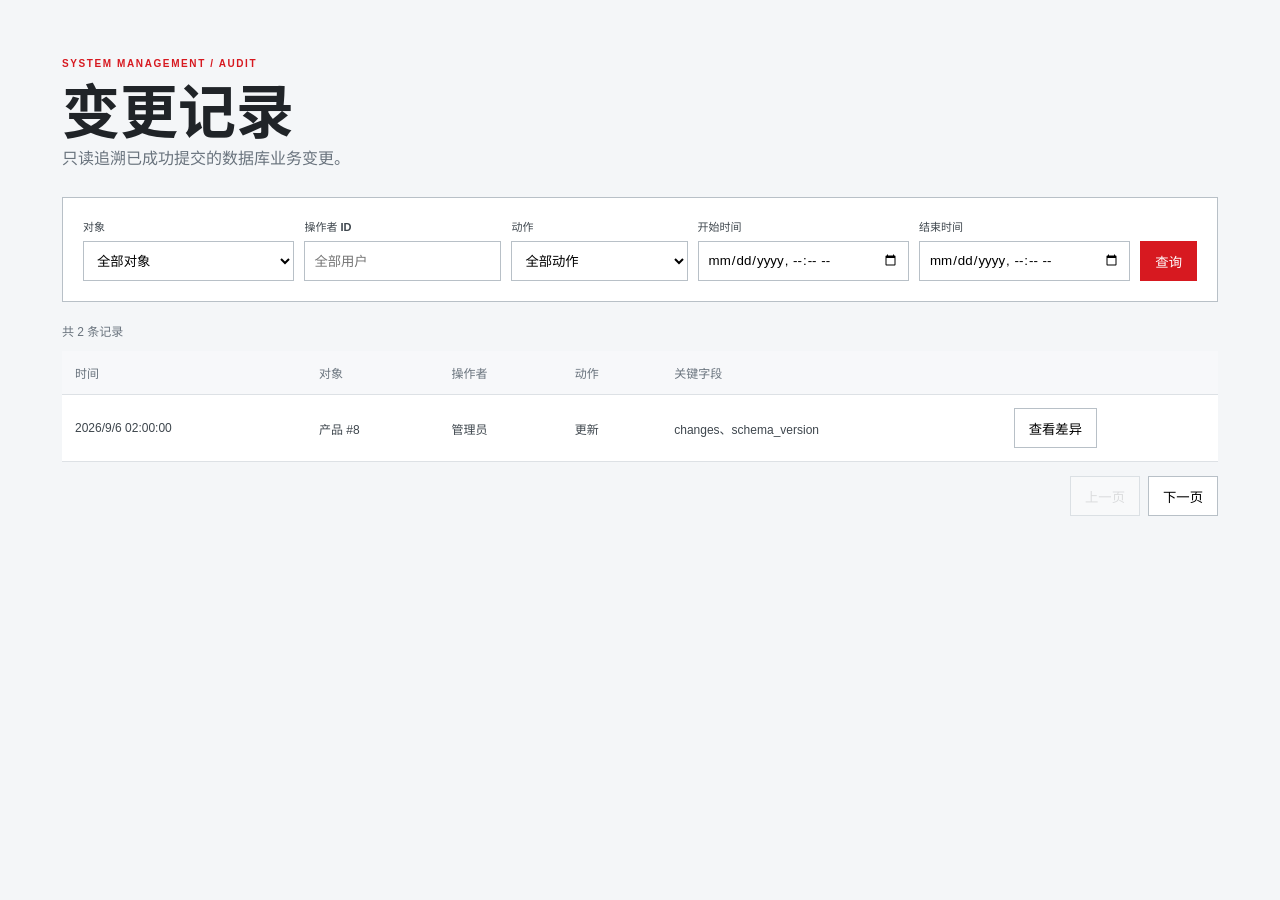
Test: AuditLogPage › filters, pages and safely displays a structured detail
This screenshot has width=1280, height=900.
Click the button with aria-label "查看变更记录 3".
click(1055, 428)  # box [1014, 408, 1097, 448]
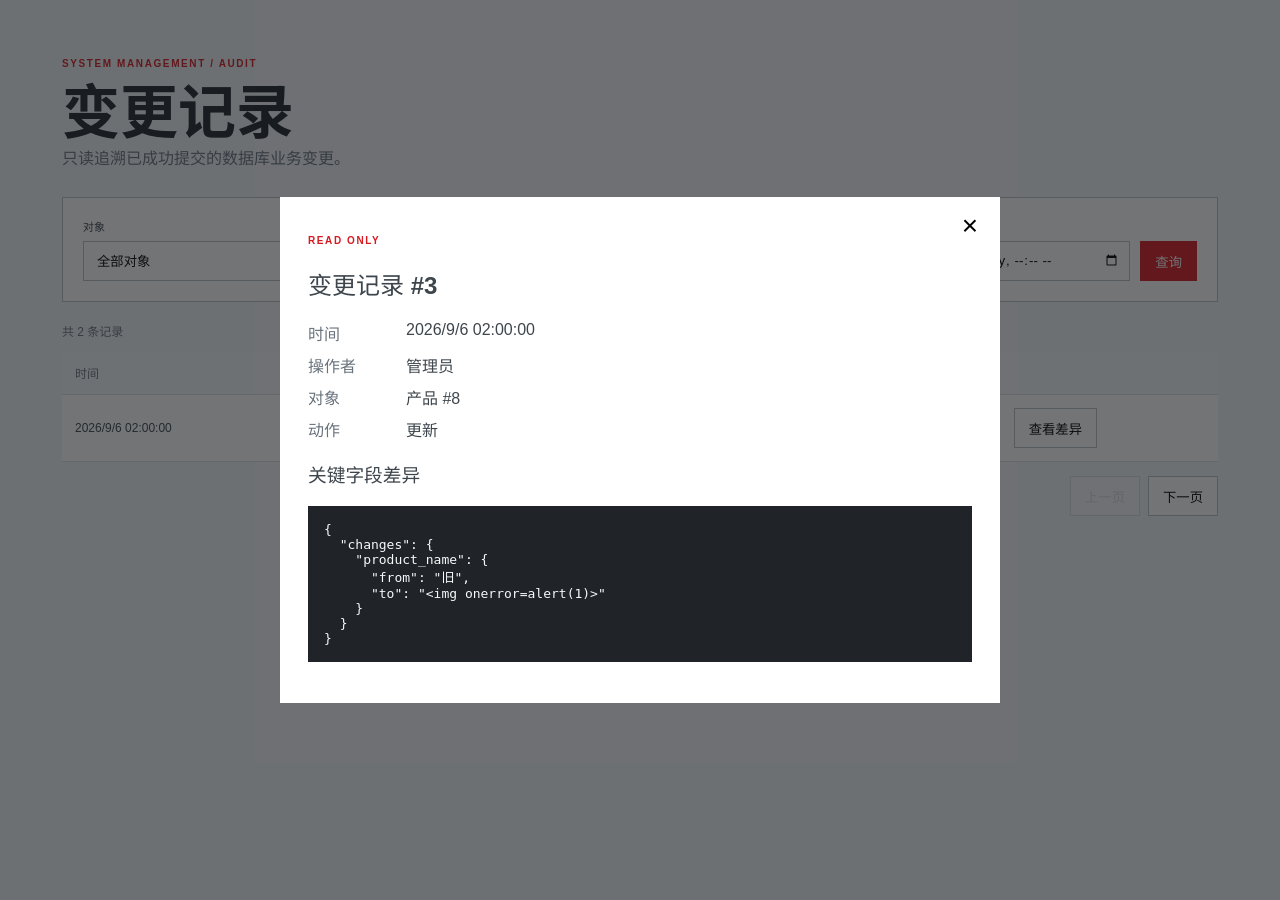
Click the button named "关闭差异".
click(970, 226)  # box [956, 209, 984, 243]
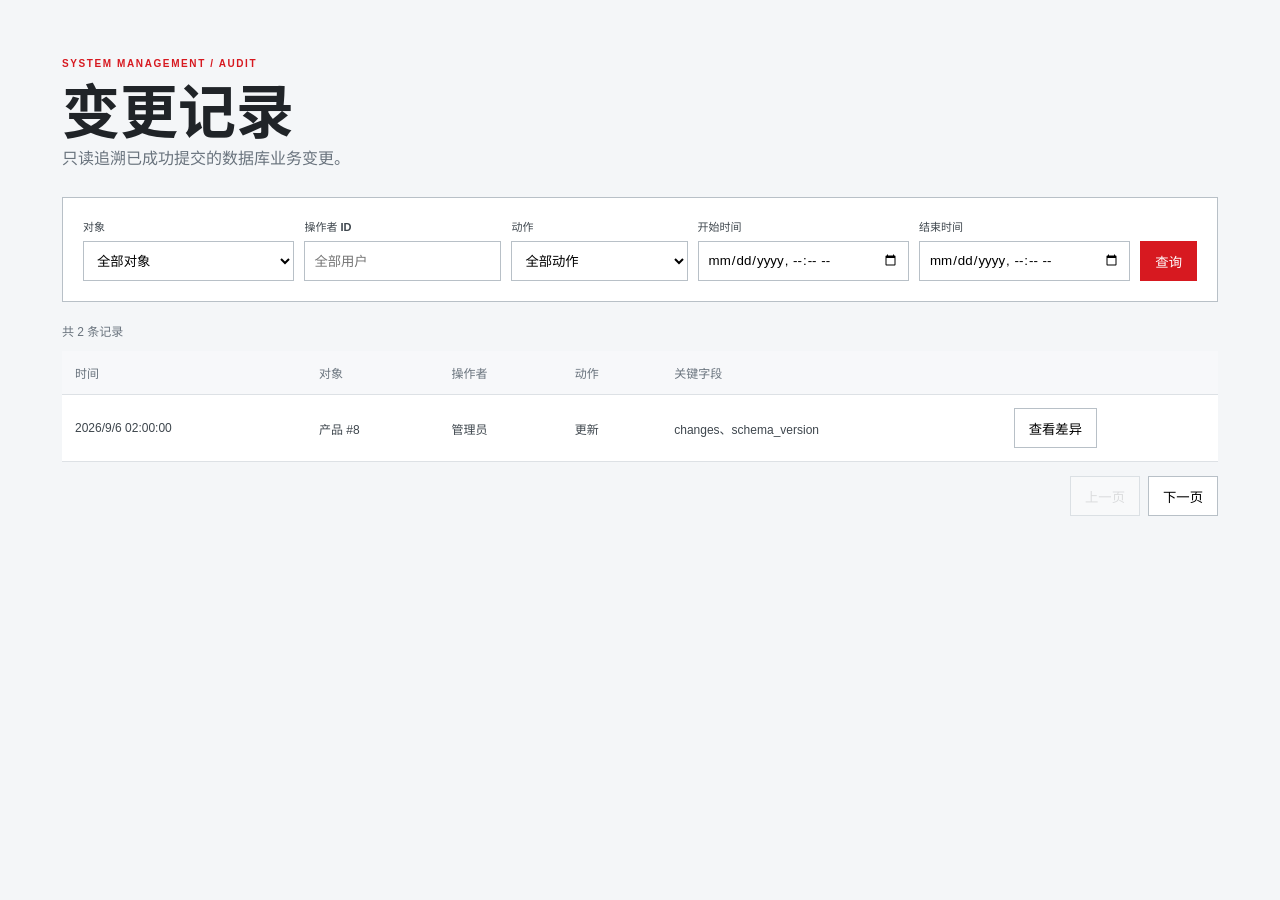
Click the button "下一页".
click(1183, 496)  # box [1148, 476, 1218, 516]
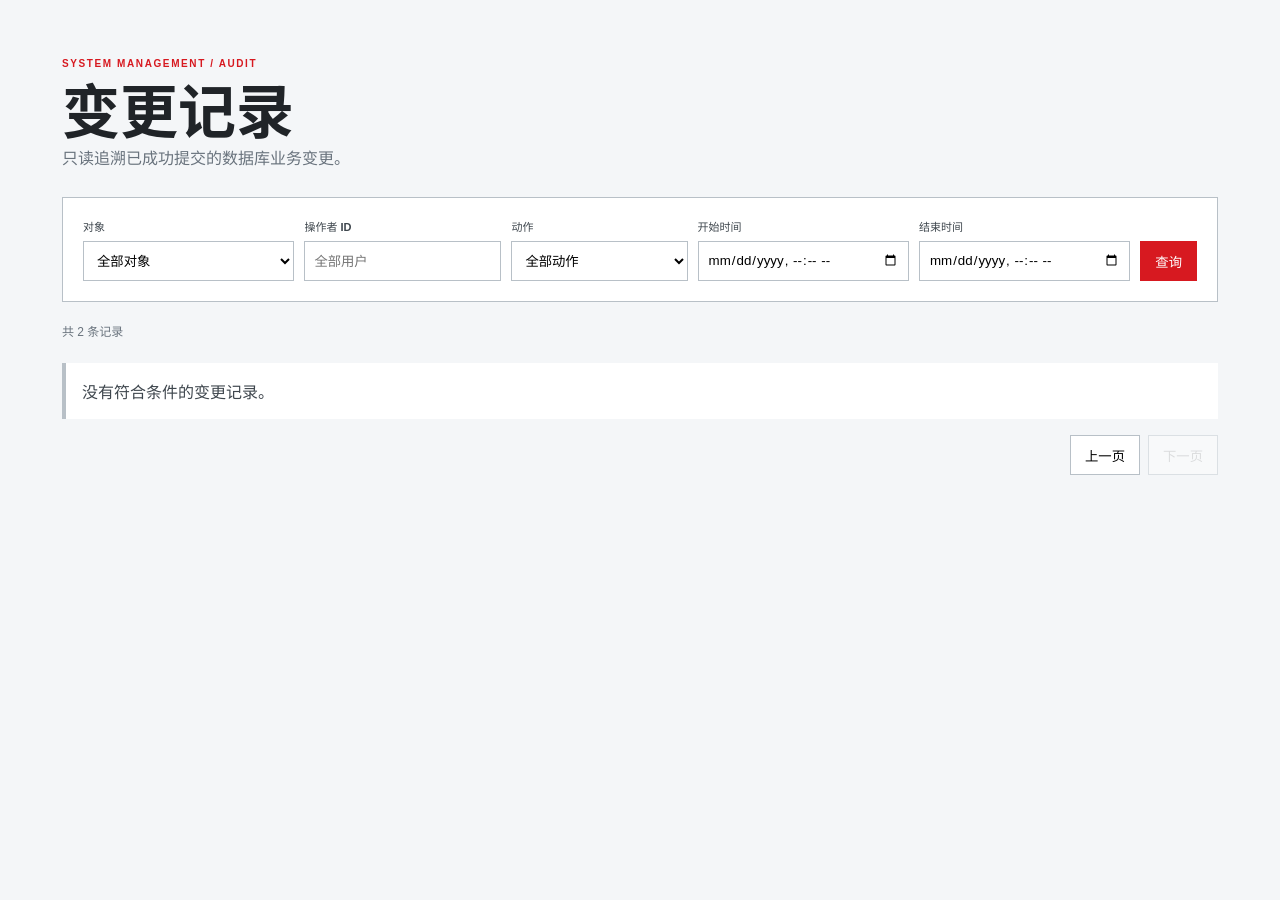
Expected: the text "没有符合条件" is shown, [82, 384, 274, 401]
